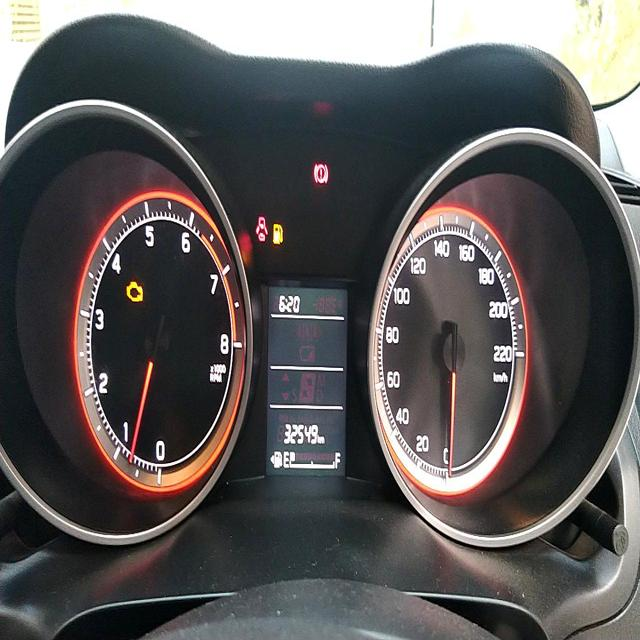odometer: (281, 420, 318, 448)
